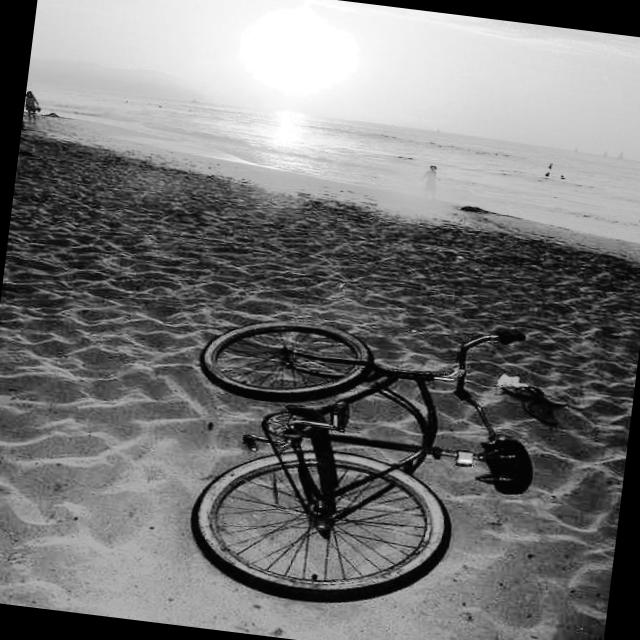Bicycle: (168, 257, 586, 640)
